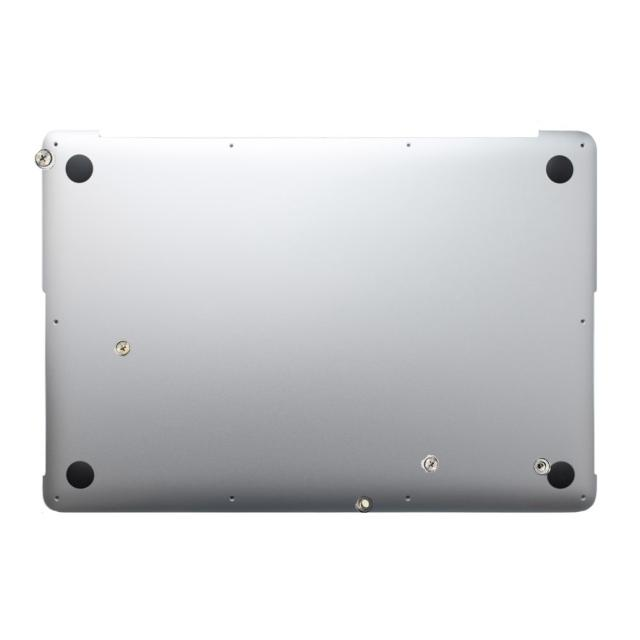lock: (34, 148, 56, 170), (420, 454, 438, 472), (113, 339, 131, 356)
missing_screw: (532, 458, 550, 476), (355, 495, 372, 513)
